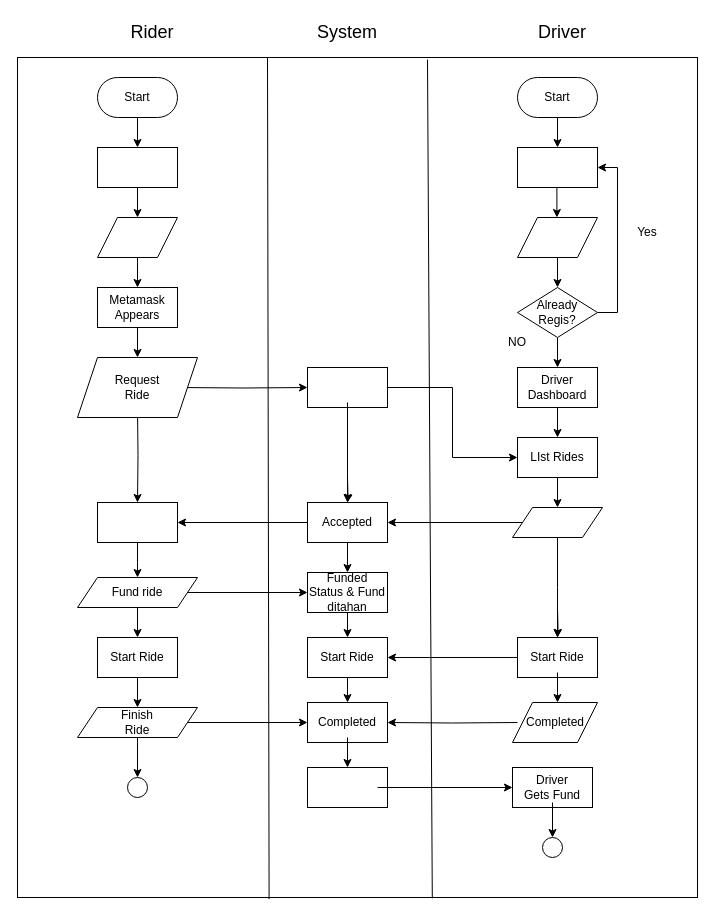
Image size: 715x918. Some labels were removed from this diagram. Here are the shapes that lost their labels. From the top down, the centre of each, then its label:
At [137,167]: "Rider Page".
At [557,167]: "Driver Register".
At [137,237]: "Input ride".
At [557,237]: "Input Credentials".
At [347,387]: "Requested".
At [137,522]: "Accepted Ride Status".
At [557,522]: "Accepts".
At [347,787]: "Lepas Fund".
